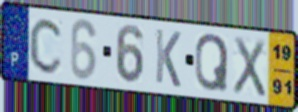6: (114, 23, 146, 86), (69, 17, 100, 82)
C: (28, 15, 66, 76)
K: (154, 26, 183, 90)
Q: (194, 31, 230, 93)
X: (231, 34, 268, 100)
